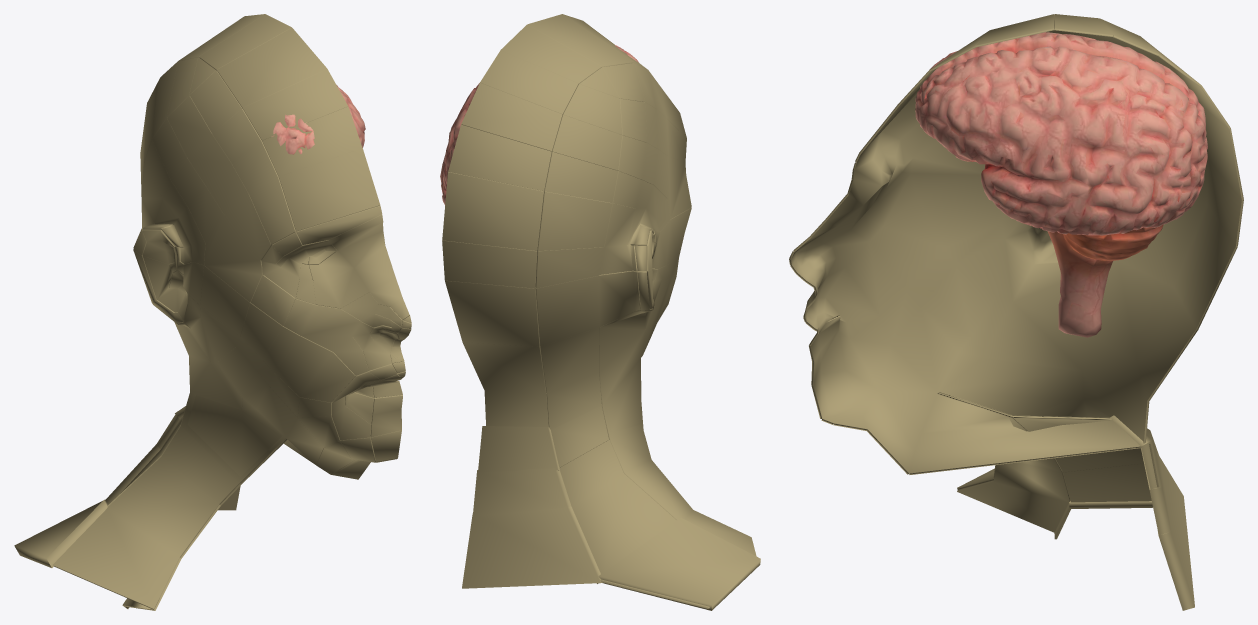
Rendered from brain and head.fbx.
3 views of the same model, side by side, from view 1: azimuth 30°, elevation 25°; view 2: azimuth 150°, elevation 25°; view 3: azimuth 270°, elevation 25° (orthographic). The views are drawn at different scales.
Visible parts, largest first — view 1: polySurface1, Icosphere; view 2: polySurface1, Icosphere; view 3: polySurface1, Icosphere.
Boxes of the visible parts, <box> form: polySurface1: <box>14,14,411,610</box>; Icosphere: <box>271,85,365,154</box>; polySurface1: <box>442,14,760,610</box>; Icosphere: <box>440,45,638,205</box>; polySurface1: <box>789,14,1243,610</box>; Icosphere: <box>915,32,1207,337</box>.
Bounding box in the file's own units: 248 × 433 × 298.
